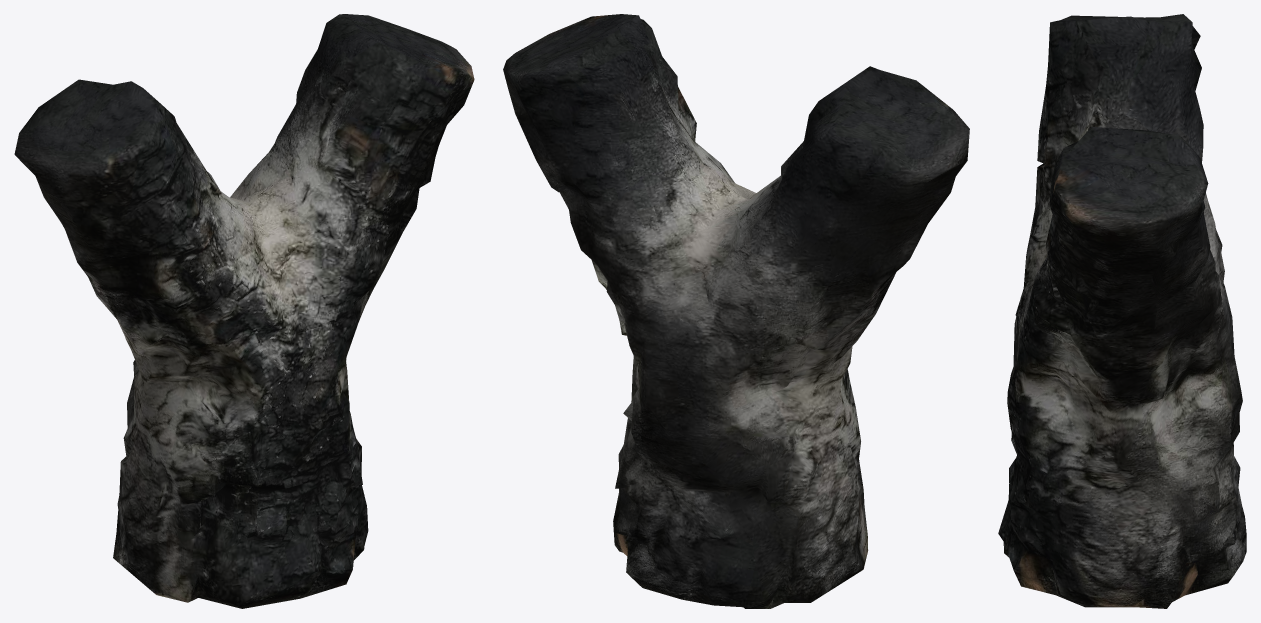
Rendered from ash-trunk-fork.glb.
3 views of the same model, side by side, from view 1: azimuth 30°, elevation 25°; view 2: azimuth 150°, elevation 25°; view 3: azimuth 270°, elevation 25° (orthographic). The views are drawn at different scales.
Parts seen in each view (by area): view 1: tripo_node_8f860e5f-2656-4f72-a08d-0029a2b60721; view 2: tripo_node_8f860e5f-2656-4f72-a08d-0029a2b60721; view 3: tripo_node_8f860e5f-2656-4f72-a08d-0029a2b60721.
Part boxes in pixels (x1,y1,x2,y2): tripo_node_8f860e5f-2656-4f72-a08d-0029a2b60721: [14, 14, 474, 608]; tripo_node_8f860e5f-2656-4f72-a08d-0029a2b60721: [503, 14, 969, 608]; tripo_node_8f860e5f-2656-4f72-a08d-0029a2b60721: [998, 14, 1246, 608].
Bounding box in the file's own units: 0.92 × 1 × 0.4559.
Materials: 1 (1 with a texture image).
